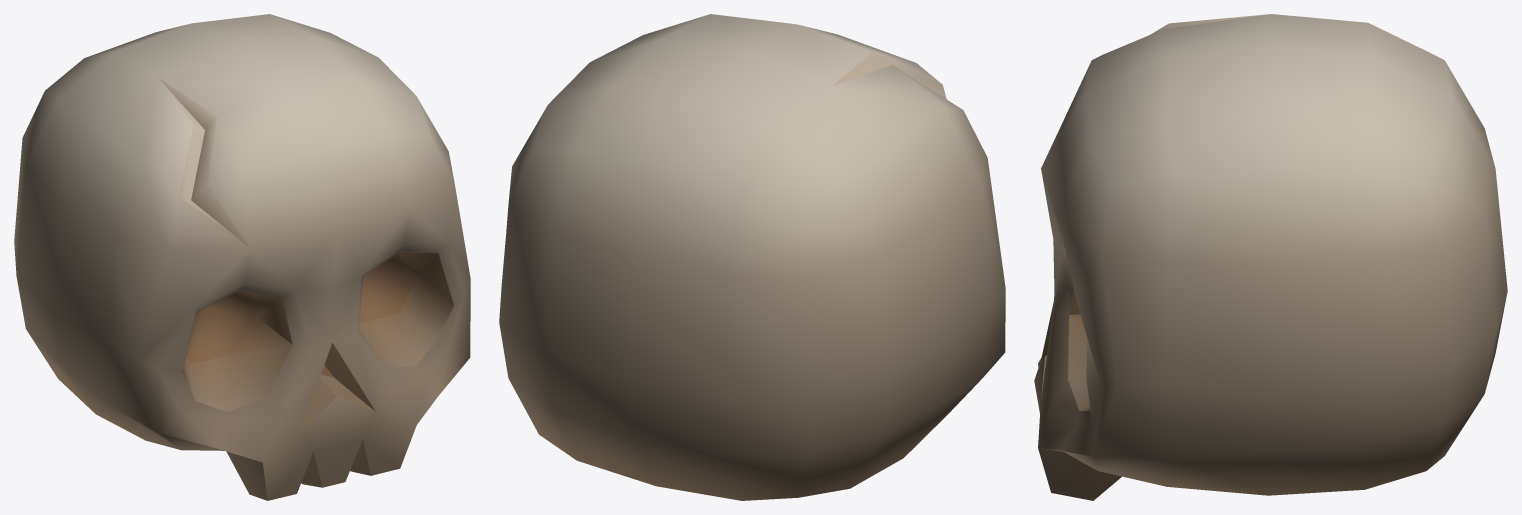
The model's file is skull.glb.
3 views of the same model, side by side, from view 1: azimuth 30°, elevation 25°; view 2: azimuth 150°, elevation 25°; view 3: azimuth 270°, elevation 25° (orthographic). The views are drawn at different scales.
Visible parts, largest first — view 1: skull; view 2: skull; view 3: skull.
Boxes of the visible parts, box(x1,y1,x2,y2) form: skull: box(14, 14, 470, 500); skull: box(499, 14, 1005, 500); skull: box(1034, 14, 1507, 500).
Bounding box in the file's own units: 0.2043 × 0.2 × 0.202.
